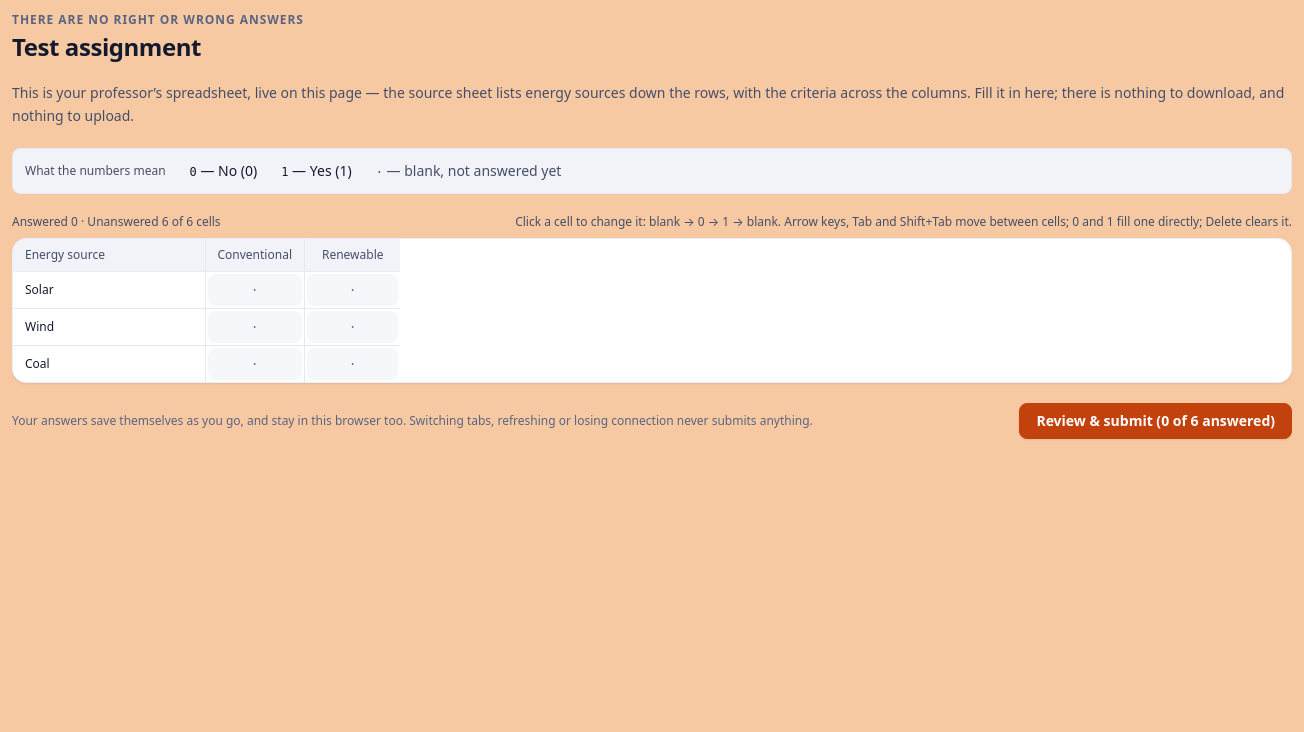
terminal failures › CLOSED stops retrying at once and says what happened
The image size is (1304, 732).
Step 1. Click the button named "Solar — Conventional" → [255, 290], box [208, 274, 302, 306]
Wait 120800 ms
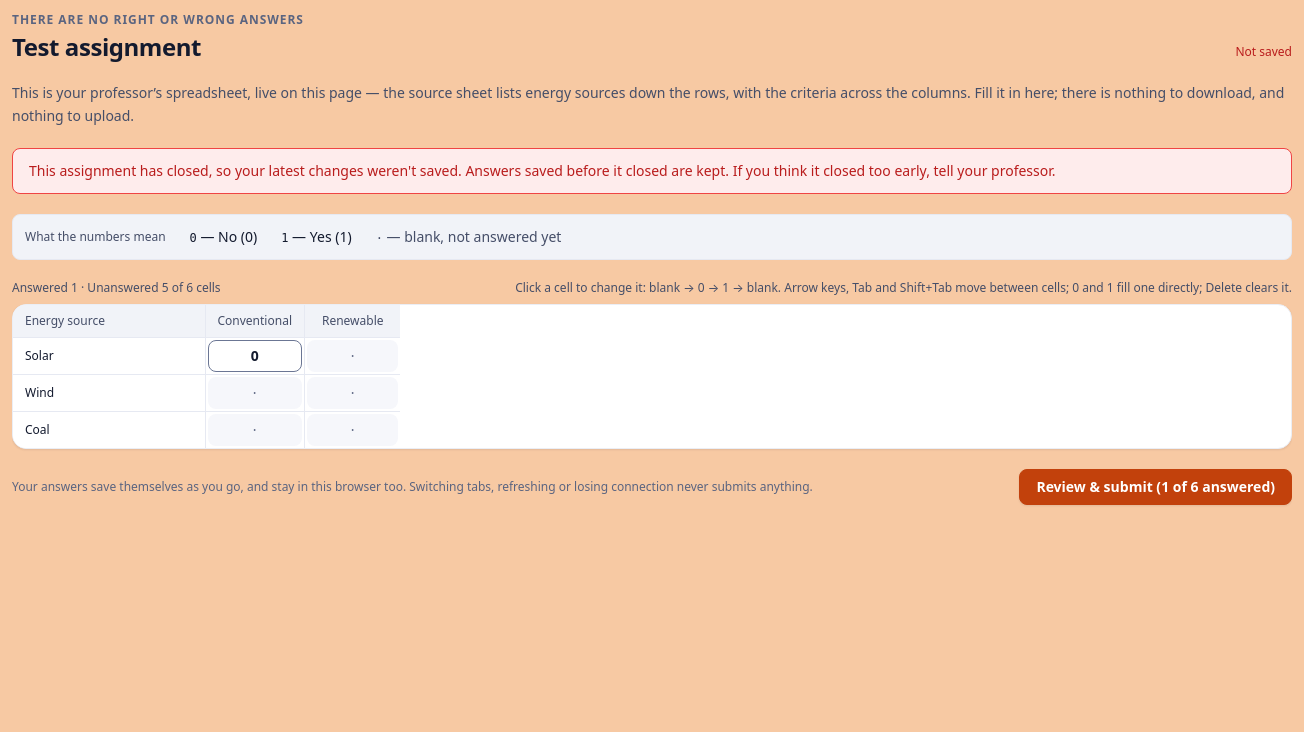
Now the 2nd message shows "has closed", box [29, 160, 1056, 180]
